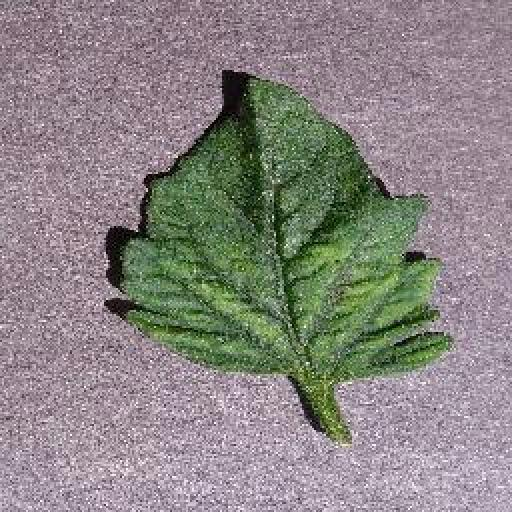Mosaic Virus: (111, 75, 459, 391)
